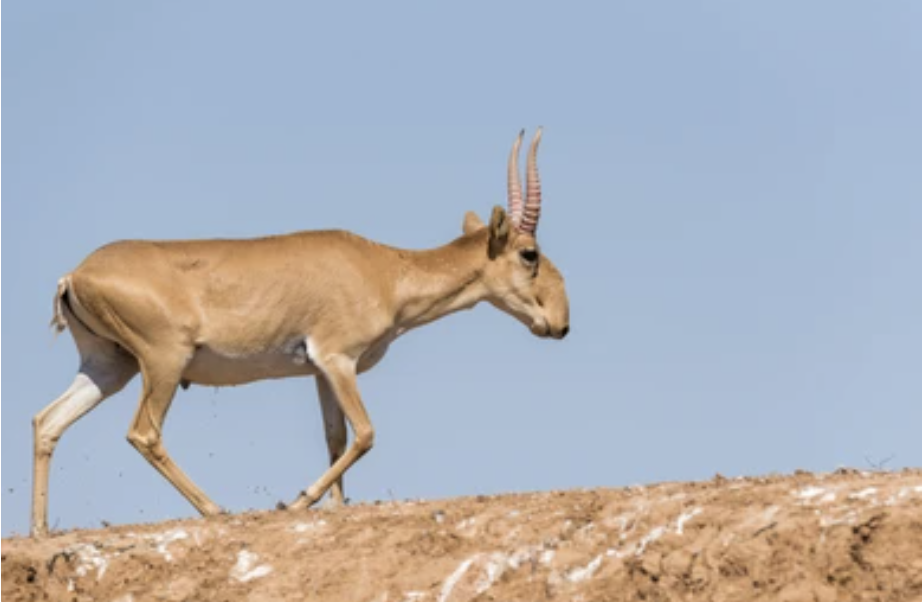saiga: (13, 154, 589, 505)
